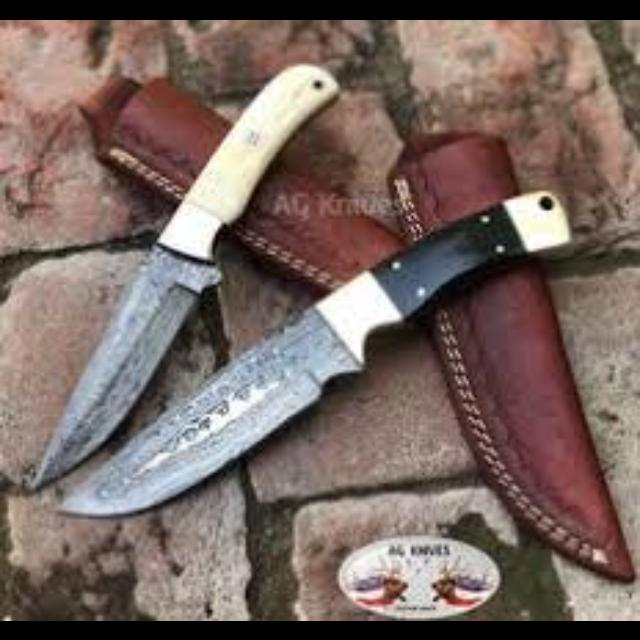Knife: (53, 185, 571, 518), (23, 61, 340, 491)
